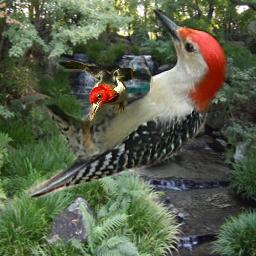Woodpecker: (25, 9, 228, 199), (53, 55, 153, 124)
